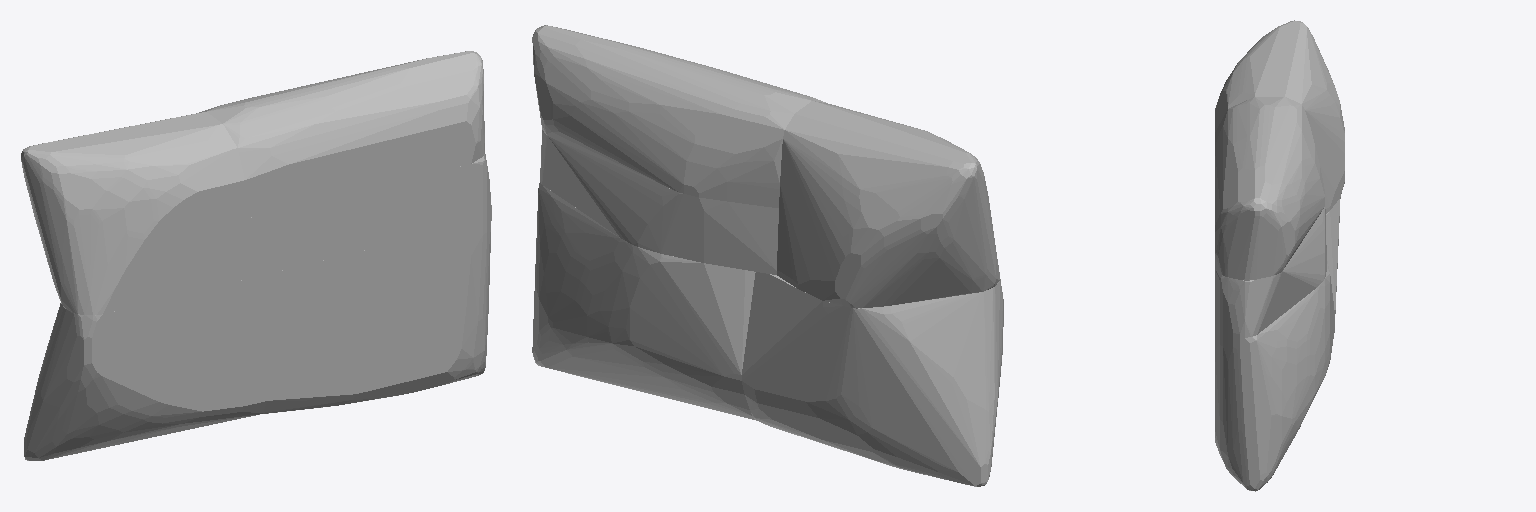
The robot description file, URDF, robot "root":
<robot name="root">
  <link name="link_coacd_convex_piece_0">
    <inertial>
      <origin xyz="0 0 0" rpy="0 0 0"/>
      <inertia ixx="8.89E-03" ixy="-6.68E-04" ixz="1.05E-02" iyy="2.73E-02" iyz="4.62E-04" izz="2.03E-02"/>
    </inertial>
    <visual>
      <origin xyz="0 0 0" rpy="0 0 0"/>
      <geometry>
        <mesh filename="coacd_convex_piece_0.obj" scale="1.0000E+00 1.0000E+00 1.0000E+00"/>
      </geometry>
      <material name="">
        <color rgba="7.50E-01 7.50E-01 7.50E-01 1"/>
      </material>
    </visual>
    <collision>
      <origin xyz="0 0 0" rpy="0 0 0"/>
      <geometry>
        <mesh filename="coacd_convex_piece_0.obj" scale="1.0000E+00 1.0000E+00 1.0000E+00"/>
      </geometry>
    </collision>
  </link>
  <link name="link_coacd_convex_piece_1">
    <inertial>
      <origin xyz="0 0 0" rpy="0 0 0"/>
      <inertia ixx="1.23E-02" ixy="3.09E-03" ixz="1.08E-02" iyy="3.30E-02" iyz="-1.75E-03" izz="2.39E-02"/>
    </inertial>
    <visual>
      <origin xyz="0 0 0" rpy="0 0 0"/>
      <geometry>
        <mesh filename="coacd_convex_piece_1.obj" scale="1.0000E+00 1.0000E+00 1.0000E+00"/>
      </geometry>
      <material name="">
        <color rgba="7.50E-01 7.50E-01 7.50E-01 1"/>
      </material>
    </visual>
    <collision>
      <origin xyz="0 0 0" rpy="0 0 0"/>
      <geometry>
        <mesh filename="coacd_convex_piece_1.obj" scale="1.0000E+00 1.0000E+00 1.0000E+00"/>
      </geometry>
    </collision>
  </link>
  <joint name="link_coacd_convex_piece_1_joint" type="fixed">
    <origin xyz="0 0 0" rpy="0 0 0"/>
    <parent link="link_coacd_convex_piece_0"/>
    <child link="link_coacd_convex_piece_1"/>
  </joint>
  <link name="link_coacd_convex_piece_2">
    <inertial>
      <origin xyz="0 0 0" rpy="0 0 0"/>
      <inertia ixx="1.01E-02" ixy="-1.39E-03" ixz="-1.06E-02" iyy="3.12E-02" iyz="-6.32E-04" izz="2.36E-02"/>
    </inertial>
    <visual>
      <origin xyz="0 0 0" rpy="0 0 0"/>
      <geometry>
        <mesh filename="coacd_convex_piece_2.obj" scale="1.0000E+00 1.0000E+00 1.0000E+00"/>
      </geometry>
      <material name="">
        <color rgba="7.50E-01 7.50E-01 7.50E-01 1"/>
      </material>
    </visual>
    <collision>
      <origin xyz="0 0 0" rpy="0 0 0"/>
      <geometry>
        <mesh filename="coacd_convex_piece_2.obj" scale="1.0000E+00 1.0000E+00 1.0000E+00"/>
      </geometry>
    </collision>
  </link>
  <joint name="link_coacd_convex_piece_2_joint" type="fixed">
    <origin xyz="0 0 0" rpy="0 0 0"/>
    <parent link="link_coacd_convex_piece_1"/>
    <child link="link_coacd_convex_piece_2"/>
  </joint>
  <link name="link_coacd_convex_piece_3">
    <inertial>
      <origin xyz="0 0 0" rpy="0 0 0"/>
      <inertia ixx="1.13E-02" ixy="1.51E-03" ixz="-7.85E-03" iyy="2.11E-02" iyz="1.63E-03" izz="1.11E-02"/>
    </inertial>
    <visual>
      <origin xyz="0 0 0" rpy="0 0 0"/>
      <geometry>
        <mesh filename="coacd_convex_piece_3.obj" scale="1.0000E+00 1.0000E+00 1.0000E+00"/>
      </geometry>
      <material name="">
        <color rgba="7.50E-01 7.50E-01 7.50E-01 1"/>
      </material>
    </visual>
    <collision>
      <origin xyz="0 0 0" rpy="0 0 0"/>
      <geometry>
        <mesh filename="coacd_convex_piece_3.obj" scale="1.0000E+00 1.0000E+00 1.0000E+00"/>
      </geometry>
    </collision>
  </link>
  <joint name="link_coacd_convex_piece_3_joint" type="fixed">
    <origin xyz="0 0 0" rpy="0 0 0"/>
    <parent link="link_coacd_convex_piece_2"/>
    <child link="link_coacd_convex_piece_3"/>
  </joint>
  <link name="link_coacd_convex_piece_4">
    <inertial>
      <origin xyz="0 0 0" rpy="0 0 0"/>
      <inertia ixx="2.04E-03" ixy="1.19E-03" ixz="-2.25E-03" iyy="9.15E-03" iyz="4.69E-04" izz="8.43E-03"/>
    </inertial>
    <visual>
      <origin xyz="0 0 0" rpy="0 0 0"/>
      <geometry>
        <mesh filename="coacd_convex_piece_4.obj" scale="1.0000E+00 1.0000E+00 1.0000E+00"/>
      </geometry>
      <material name="">
        <color rgba="7.50E-01 7.50E-01 7.50E-01 1"/>
      </material>
    </visual>
    <collision>
      <origin xyz="0 0 0" rpy="0 0 0"/>
      <geometry>
        <mesh filename="coacd_convex_piece_4.obj" scale="1.0000E+00 1.0000E+00 1.0000E+00"/>
      </geometry>
    </collision>
  </link>
  <joint name="link_coacd_convex_piece_4_joint" type="fixed">
    <origin xyz="0 0 0" rpy="0 0 0"/>
    <parent link="link_coacd_convex_piece_3"/>
    <child link="link_coacd_convex_piece_4"/>
  </joint>
</robot>

--- Render facts (derived) ---
The picture shows the robot from 3 angles, left to right: view 1: azimuth 30°, elevation 25°; view 2: azimuth 150°, elevation 25°; view 3: azimuth 270°, elevation 25°; orthographic projection.
Robot: root — 5 links, 4 joints (4 fixed); root link link_coacd_convex_piece_0; default pose: every joint at zero.
Links seen in each view (by area): view 1: link_coacd_convex_piece_0, link_coacd_convex_piece_1, link_coacd_convex_piece_2, link_coacd_convex_piece_3, link_coacd_convex_piece_4; view 2: link_coacd_convex_piece_2, link_coacd_convex_piece_0, link_coacd_convex_piece_1, link_coacd_convex_piece_3, link_coacd_convex_piece_4; view 3: link_coacd_convex_piece_3, link_coacd_convex_piece_1, link_coacd_convex_piece_0, link_coacd_convex_piece_4, link_coacd_convex_piece_2.
Boxes of the visible links, left/top/right/bottom form: link_coacd_convex_piece_0: left=21, top=112, right=244, bottom=314; link_coacd_convex_piece_1: left=263, top=210, right=491, bottom=413; link_coacd_convex_piece_2: left=24, top=274, right=266, bottom=460; link_coacd_convex_piece_3: left=199, top=51, right=484, bottom=218; link_coacd_convex_piece_4: left=245, top=154, right=491, bottom=279; link_coacd_convex_piece_2: left=742, top=272, right=1003, bottom=486; link_coacd_convex_piece_0: left=777, top=101, right=999, bottom=308; link_coacd_convex_piece_1: left=532, top=182, right=755, bottom=419; link_coacd_convex_piece_3: left=532, top=25, right=825, bottom=207; link_coacd_convex_piece_4: left=540, top=130, right=778, bottom=274; link_coacd_convex_piece_3: left=1215, top=97, right=1324, bottom=280; link_coacd_convex_piece_1: left=1215, top=261, right=1334, bottom=491; link_coacd_convex_piece_0: left=1215, top=20, right=1344, bottom=213; link_coacd_convex_piece_4: left=1215, top=207, right=1326, bottom=337; link_coacd_convex_piece_2: left=1326, top=197, right=1340, bottom=313.
Bounding box of the posed robot: 1.62 × 0.4592 × 1.13 m (x, y, z).
Meshes: 5 distinct files referenced, 5 mesh visuals loaded (5 OBJ).
